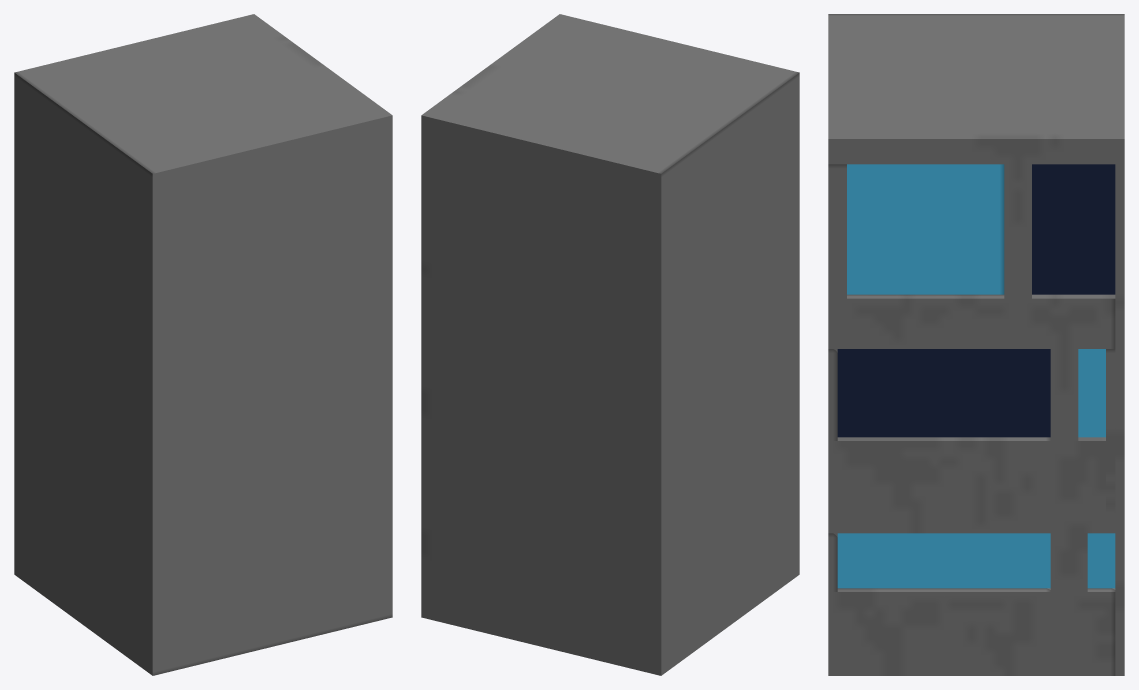
File: PARTER_BOK_02.dae
3 views of the same model, side by side, from view 1: azimuth 30°, elevation 25°; view 2: azimuth 150°, elevation 25°; view 3: azimuth 270°, elevation 25° (orthographic). The views are drawn at different scales.
Visible parts, largest first — view 1: Content; view 2: Content; view 3: Content.
Part boxes in pixels (left/top/right/bottom): Content: left=14, top=14, right=392, bottom=675; Content: left=421, top=14, right=799, bottom=675; Content: left=828, top=14, right=1124, bottom=675.
Bounding box in the file's own units: 32 × 64 × 32.
Materials: 1 (1 with a texture image).
